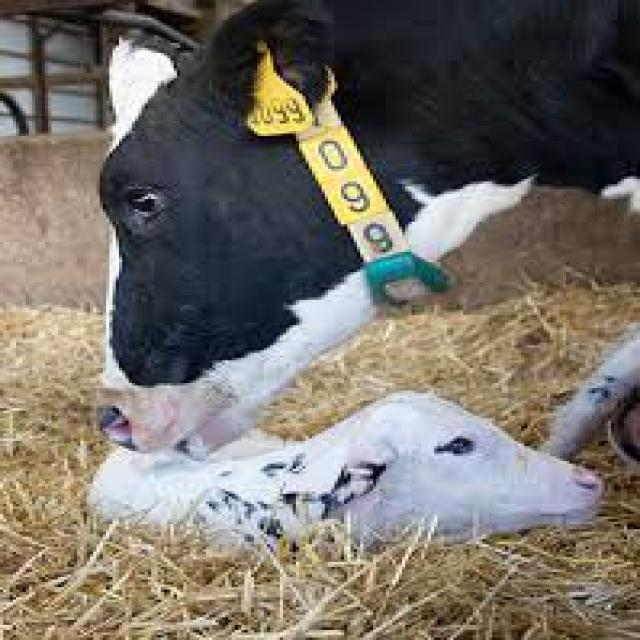cow: (71, 54, 469, 423)
